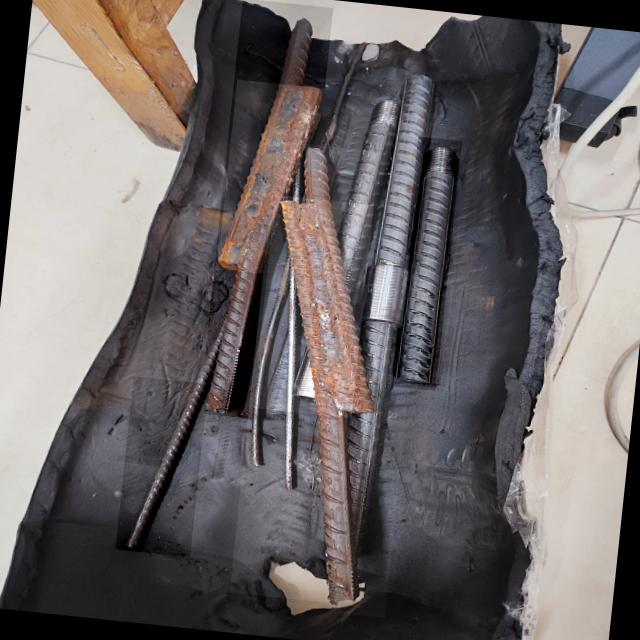Sleeve joint: (362, 251, 409, 329)
Welded link: (253, 196, 395, 420), (217, 79, 327, 278)
ribbed bar: (229, 141, 414, 607), (331, 67, 442, 618), (198, 0, 332, 422), (392, 137, 461, 390), (115, 376, 208, 556)
